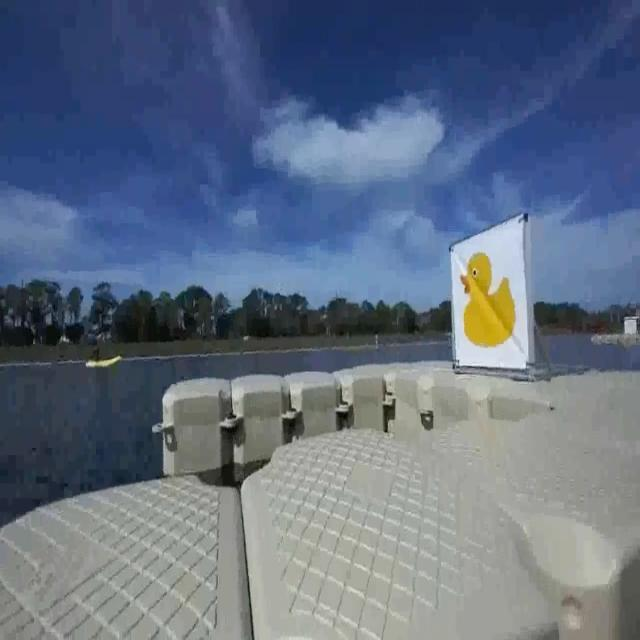yellow-duck: (454, 241, 524, 357)
